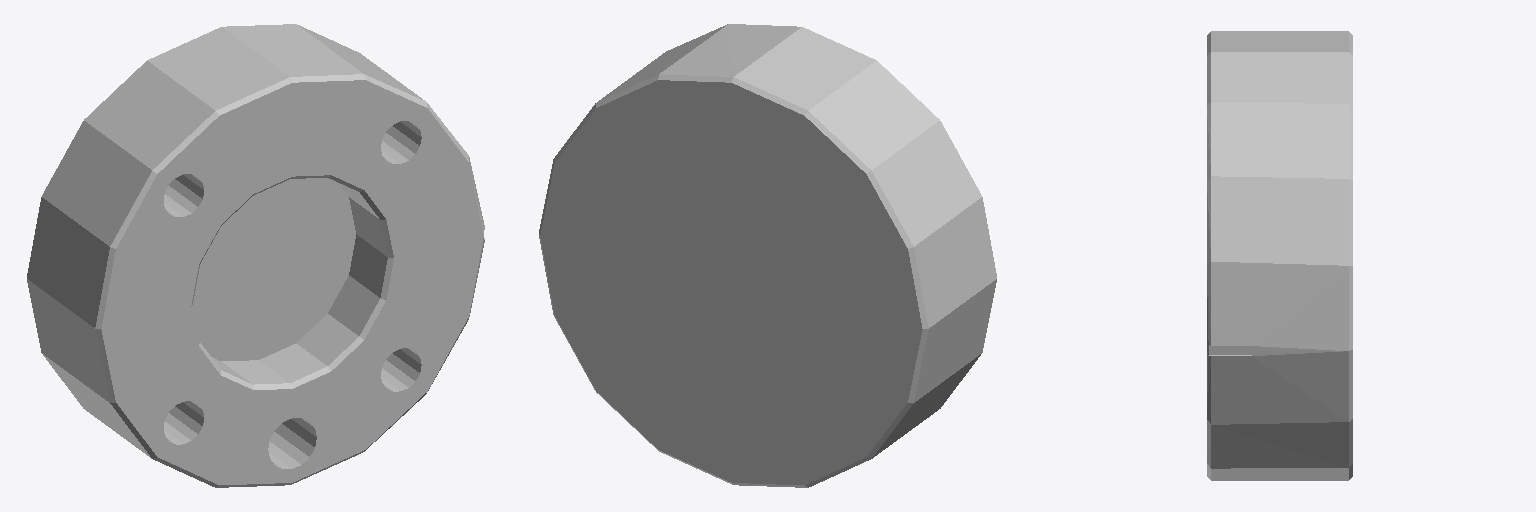
Rendered from irb120joint6t.obj.
3 views of the same model, side by side, from view 1: azimuth 30°, elevation 25°; view 2: azimuth 150°, elevation 25°; view 3: azimuth 270°, elevation 25° (orthographic).
Visible parts, largest first — view 1: IRB120_3-58_IRC5_Link6_rev0; view 2: IRB120_3-58_IRC5_Link6_rev0; view 3: IRB120_3-58_IRC5_Link6_rev0.
Part boxes in pixels (left/top/right/bottom): IRB120_3-58_IRC5_Link6_rev0: left=27, top=24, right=484, bottom=487; IRB120_3-58_IRC5_Link6_rev0: left=539, top=24, right=996, bottom=487; IRB120_3-58_IRC5_Link6_rev0: left=1207, top=31, right=1352, bottom=480.
Bounding box in the file's own units: 2 × 2 × 0.65.